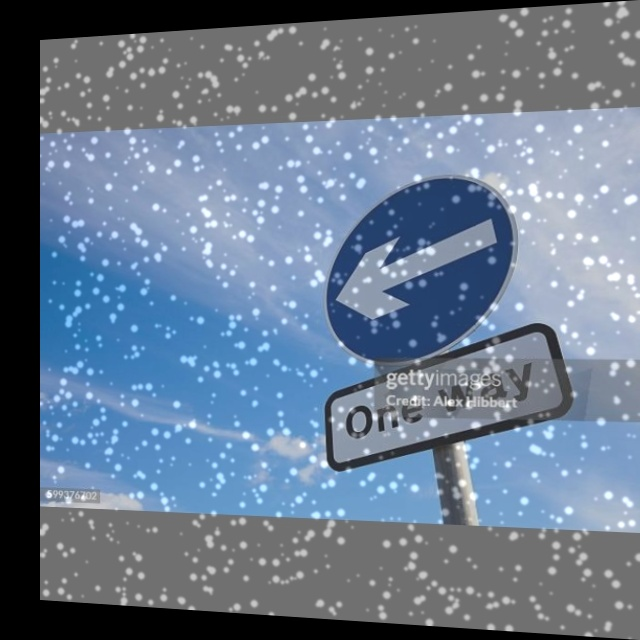Compulsory_Turn_Left: (316, 169, 515, 360)
